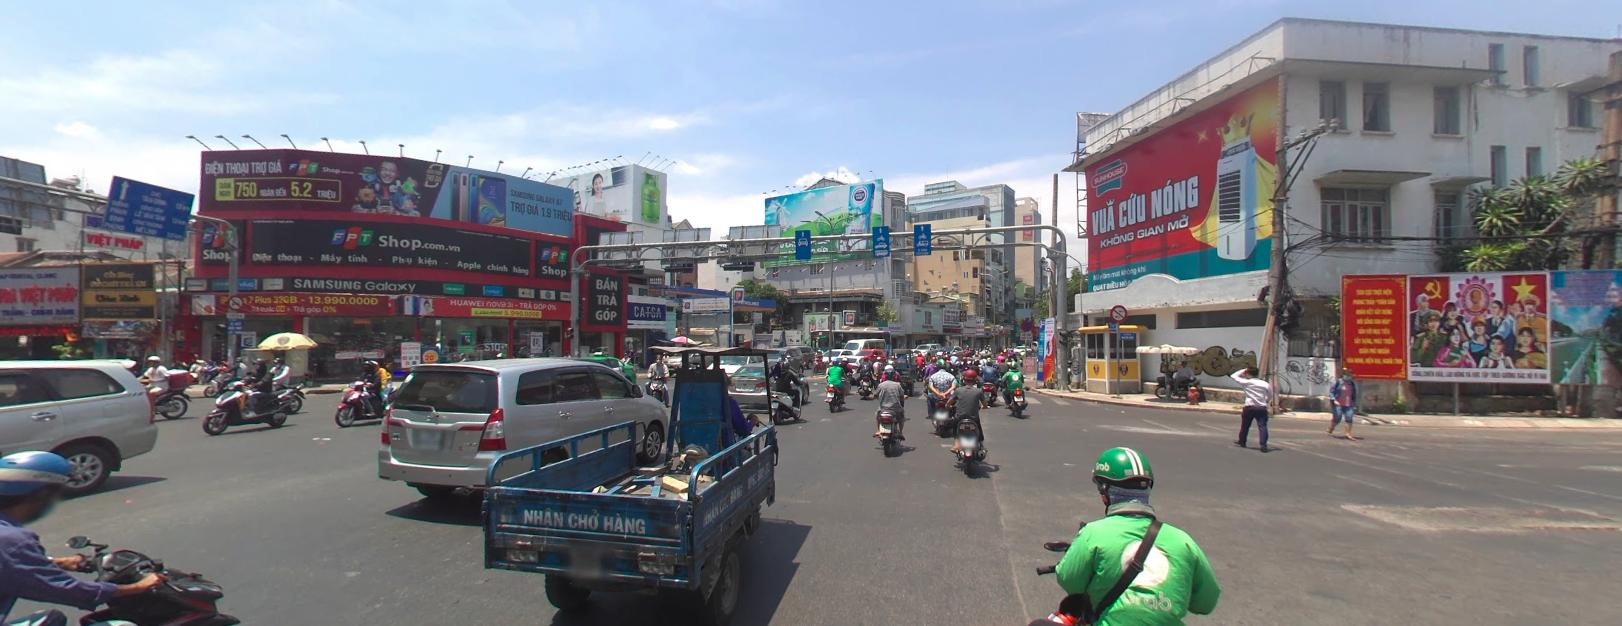Cam con lai: (1110, 302, 1127, 320)
Cam dung va do: (1020, 318, 1031, 329)
